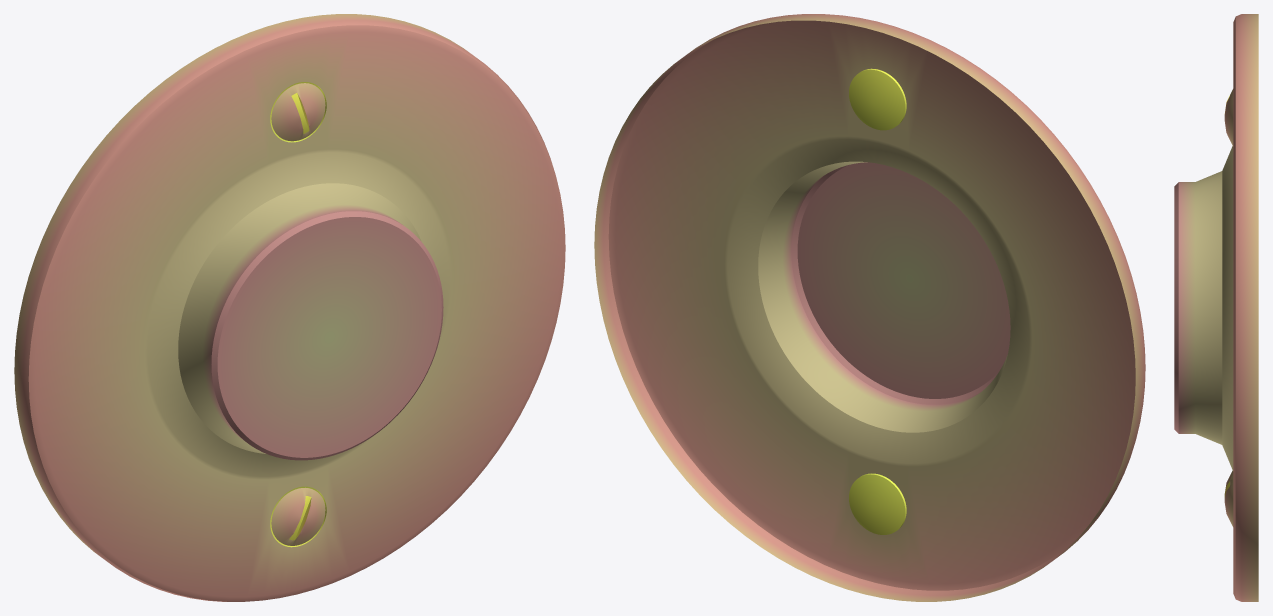
The model's file is Kit_Lock_Rose_Brass.fbx.
3 views of the same model, side by side, from view 1: azimuth 30°, elevation 25°; view 2: azimuth 150°, elevation 25°; view 3: azimuth 270°, elevation 25° (orthographic). The views are drawn at different scales.
Visible parts, largest first — view 1: Kit_Lock_Rose_LOD0; view 2: Kit_Lock_Rose_LOD0; view 3: Kit_Lock_Rose_LOD0.
Boxes of the visible parts, x1=… form: Kit_Lock_Rose_LOD0: x1=14, y1=14, x2=565, y2=601; Kit_Lock_Rose_LOD0: x1=594, y1=14, x2=1145, y2=601; Kit_Lock_Rose_LOD0: x1=1174, y1=14, x2=1258, y2=601.
Size of what is drawn, in the model's own units: 0.07 by 0.07 by 0.01.
